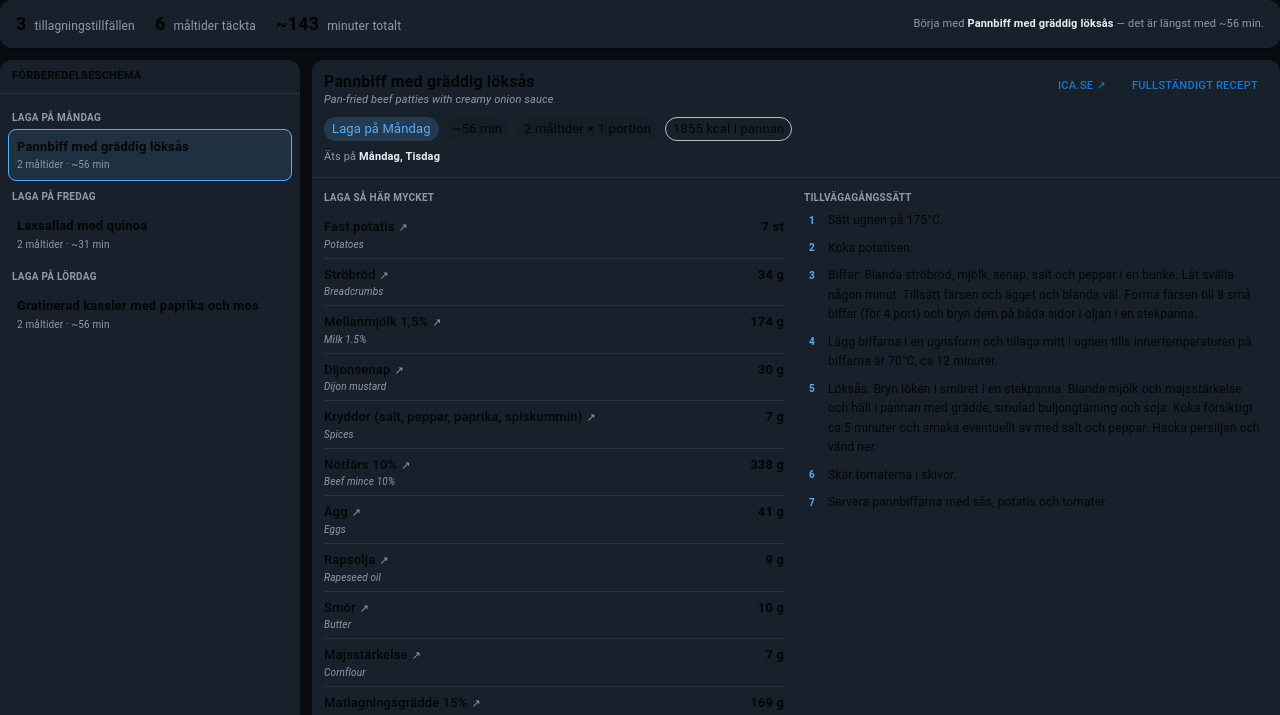
PrepView › switches the detail panel when another session is picked
Step 1. Click the button "Laxsallad med quinoa 2 måltider · ~31 min" → (150, 235), box [8, 208, 292, 261]
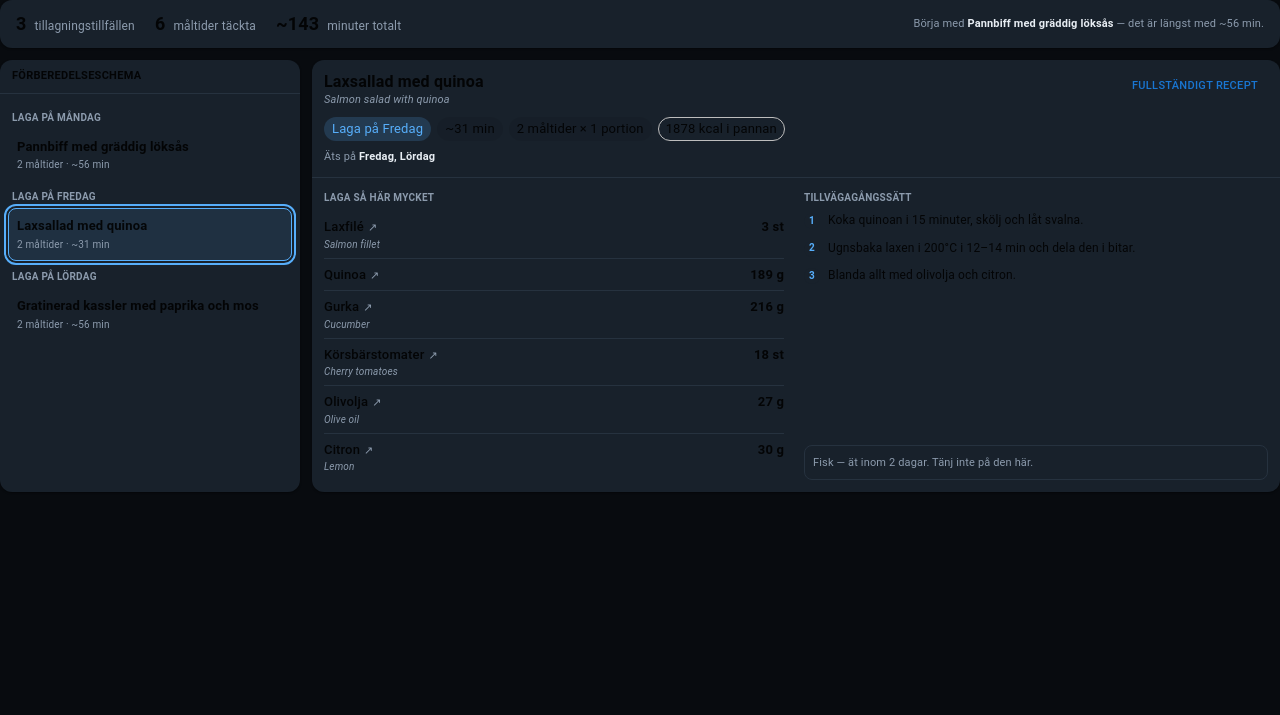
Expected: the text "Koka quinoan i 15 minuter, skölj och låt svalna." is shown, [828, 211, 1084, 230]
